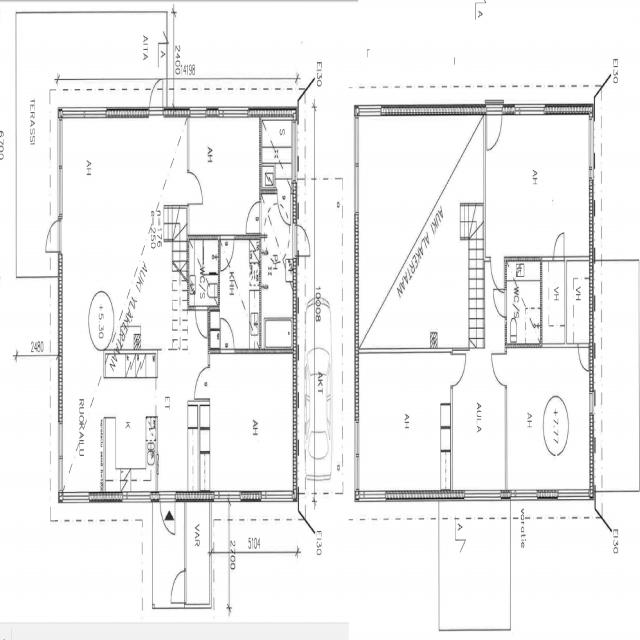door: (487, 104, 502, 150), (160, 491, 175, 536), (149, 75, 163, 117), (293, 224, 311, 256), (44, 221, 62, 251), (194, 367, 210, 399), (246, 201, 262, 233), (491, 354, 507, 386), (171, 570, 186, 602), (451, 354, 466, 386), (221, 234, 234, 270), (221, 317, 234, 353), (491, 256, 504, 291), (187, 174, 202, 203), (278, 189, 290, 225), (493, 289, 507, 317), (195, 306, 207, 338), (554, 233, 564, 261), (578, 344, 588, 371)
